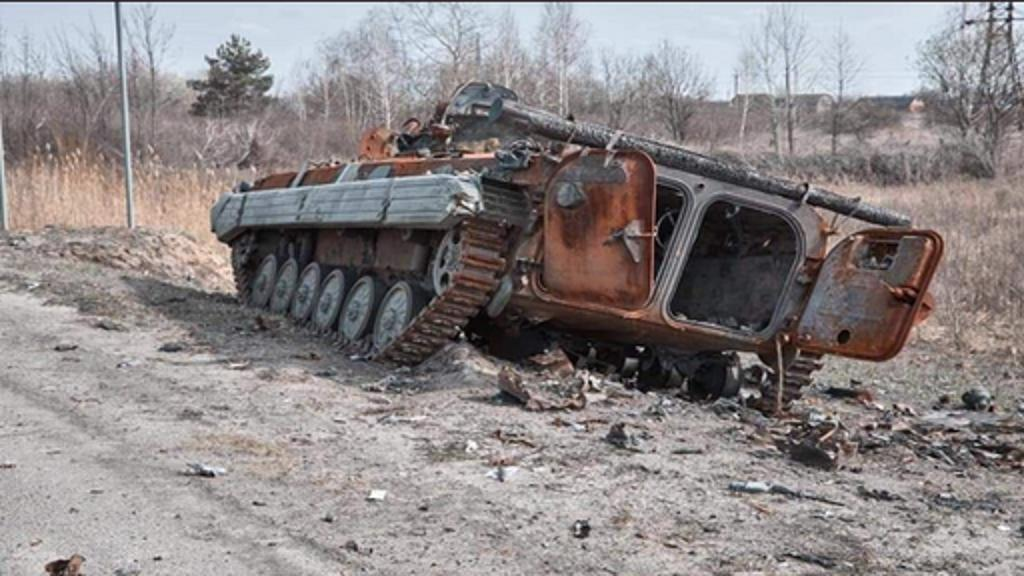APC-IFV: (196, 76, 936, 446)
